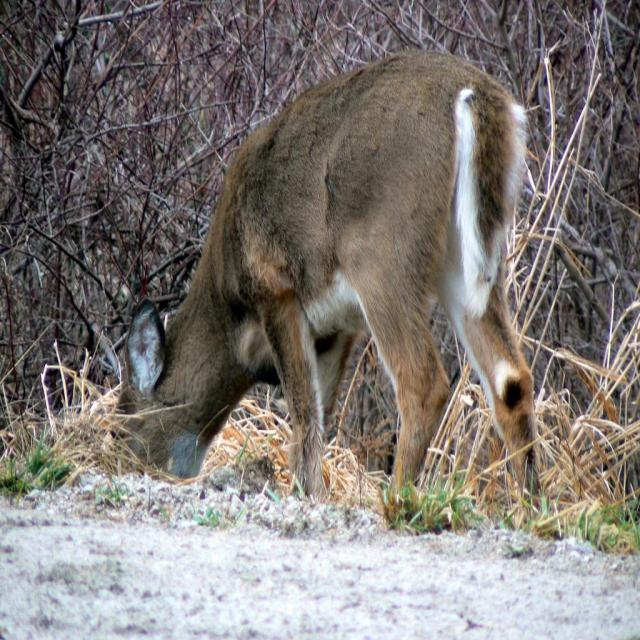Deer: (100, 47, 542, 523)
